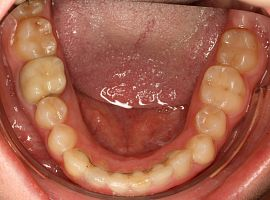LL1BC_healthy: (185, 134, 216, 164)
LL1M_healthy: (199, 65, 246, 116)
LL2BC_healthy: (195, 105, 226, 138)
LL2M_healthy: (216, 29, 262, 73)
LL3M_decay: (225, 9, 267, 32)
LLCI_healthy: (128, 171, 150, 194)
LLC_healthy: (167, 150, 192, 178)
LLLI_healthy: (150, 163, 173, 185)
LR1BC_healthy: (46, 126, 77, 155)
LR1M_healthy: (20, 57, 66, 103)
LR2BC_healthy: (33, 95, 69, 128)
LR2M_decay: (11, 16, 58, 58)
LR3M_decay: (5, 1, 50, 19)
LRCI_healthy: (109, 171, 128, 195)
LRC_healthy: (61, 148, 91, 176)
LRLI_healthy: (86, 166, 109, 189)
